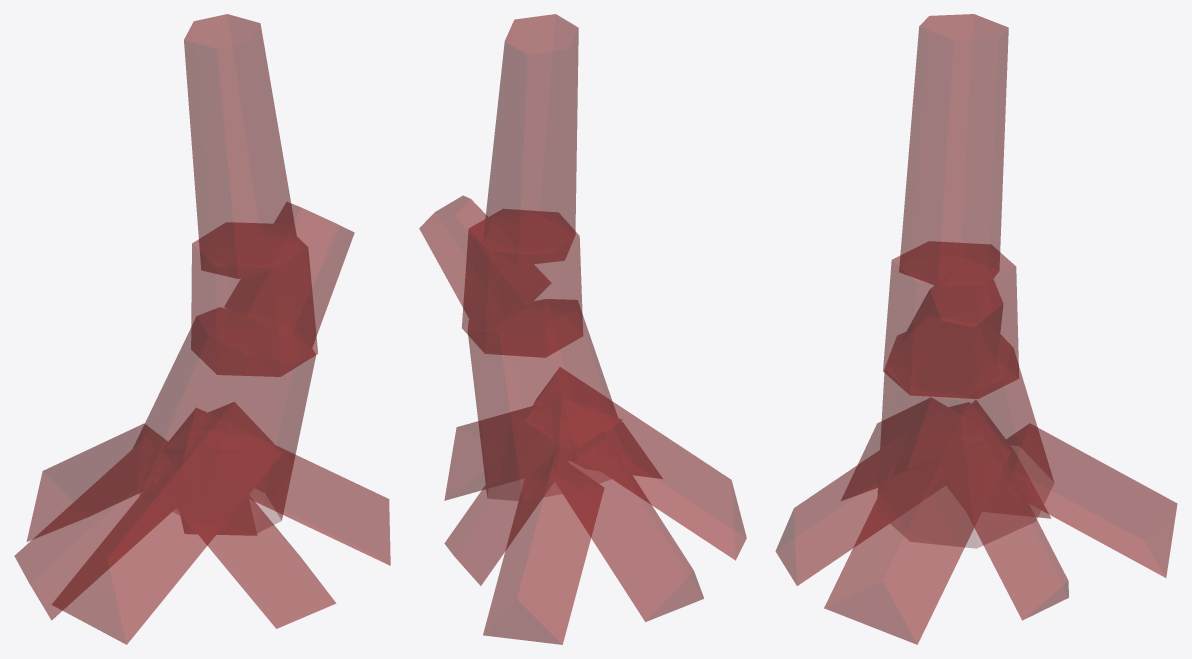
File: SM_Env_Tree_Large_Twisted_02_Collision.fbx
3 renders of one model, left to right at view 1: azimuth 30°, elevation 25°; view 2: azimuth 150°, elevation 25°; view 3: azimuth 270°, elevation 25°, orthographic. The views are drawn at different scales.
Visible parts, largest first — view 1: SM_Env_Tree_Large_Twisted_02_Collision; view 2: SM_Env_Tree_Large_Twisted_02_Collision; view 3: SM_Env_Tree_Large_Twisted_02_Collision.
Part boxes in pixels (left/top/right/bottom): SM_Env_Tree_Large_Twisted_02_Collision: left=14, top=14, right=390, bottom=644; SM_Env_Tree_Large_Twisted_02_Collision: left=419, top=14, right=746, bottom=644; SM_Env_Tree_Large_Twisted_02_Collision: left=775, top=14, right=1177, bottom=644.
Bounding box in the file's own units: 340 × 569 × 362.
